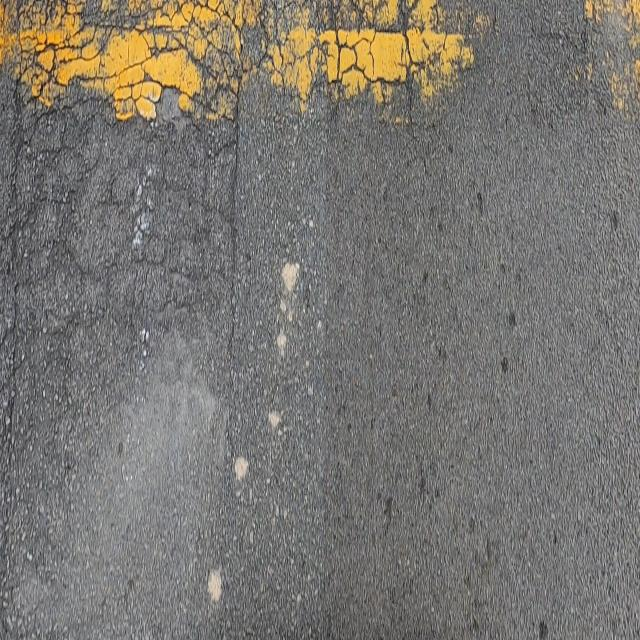Retak-Buaya: (3, 0, 248, 455), (0, 0, 490, 119)
